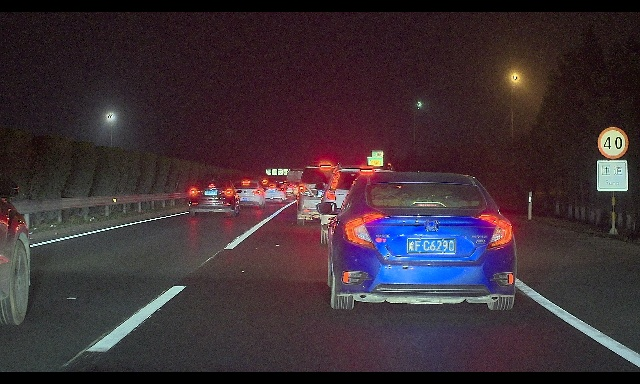car: (316, 172, 517, 310), (315, 162, 403, 244), (0, 176, 30, 325), (294, 165, 349, 225), (189, 178, 242, 217), (230, 180, 267, 209), (260, 183, 287, 203), (277, 183, 294, 198), (286, 183, 299, 195)
truck: (286, 167, 308, 196)
